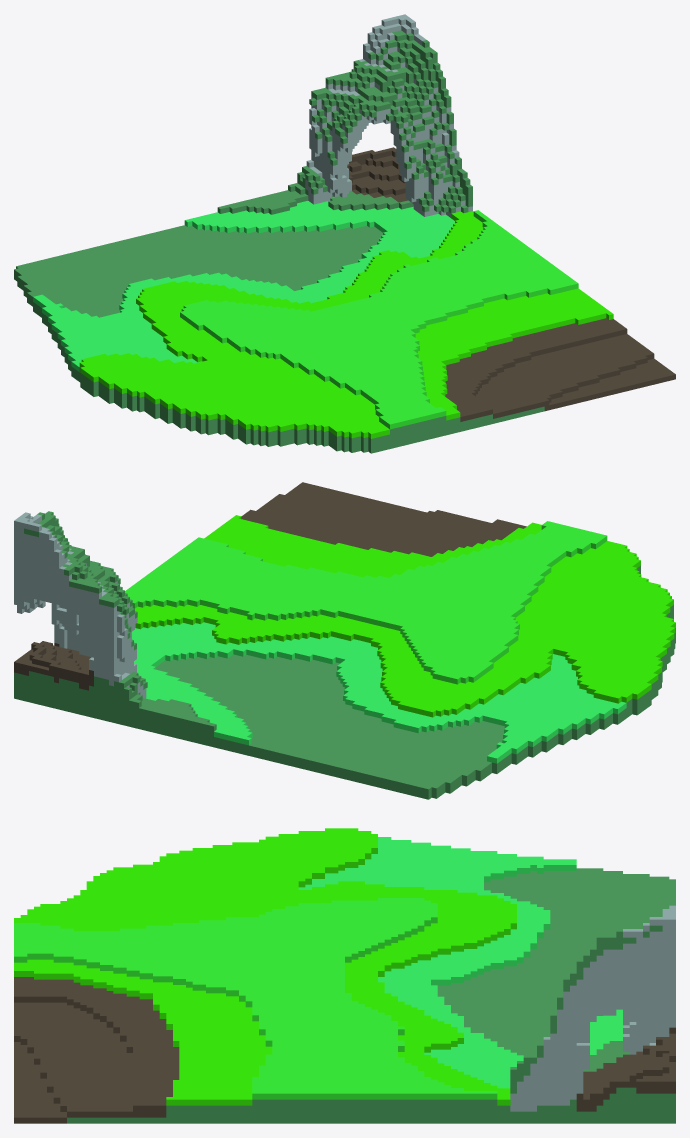
Rendered from TerrainPieces-0.obj.
3 renders of one model, top to bottom at view 1: azimuth 30°, elevation 25°; view 2: azimuth 150°, elevation 25°; view 3: azimuth 270°, elevation 25°, orthographic. The views are drawn at different scales.
Parts seen in each view (by area): view 1: TerrainPieces-0; view 2: TerrainPieces-0; view 3: TerrainPieces-0.
Boxes of the visible parts, x1=… form: TerrainPieces-0: x1=14, y1=14, x2=675, y2=453; TerrainPieces-0: x1=14, y1=482, x2=675, y2=799; TerrainPieces-0: x1=14, y1=828, x2=675, y2=1123.
Bounding box in the file's own units: 97 × 34 × 100.
Materials: 1 (1 with a texture image).
